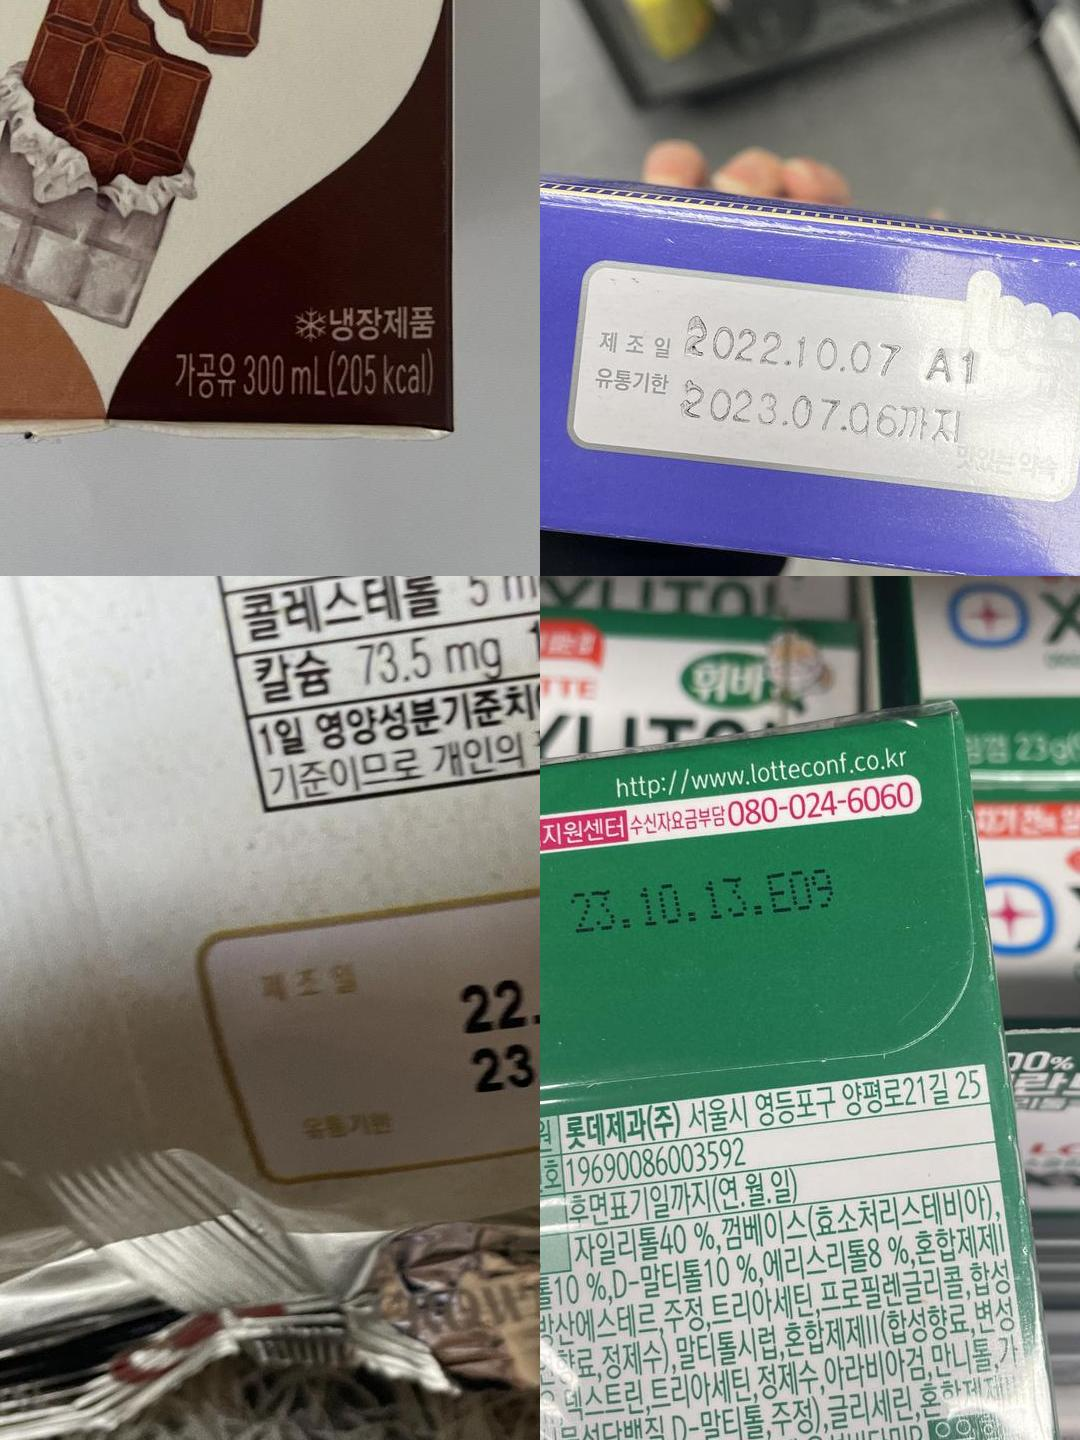milk: (0, 0, 376, 63)
snack food: (568, 265, 1065, 495), (376, 931, 540, 1117), (559, 853, 833, 950)
